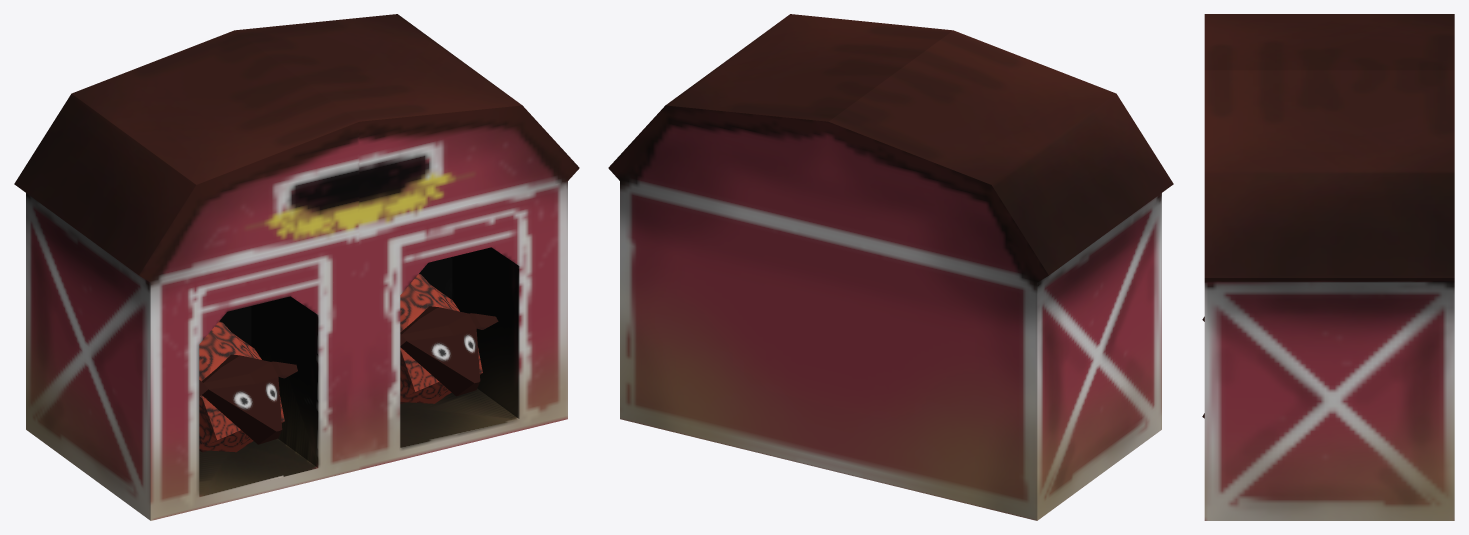
File: SArai_red_withsheeps.fbx
3 renders of one model, left to right at view 1: azimuth 30°, elevation 25°; view 2: azimuth 150°, elevation 25°; view 3: azimuth 270°, elevation 25°, orthographic.
Visible parts, largest first — view 1: Sarai, Sheep1, Sheep1.001; view 2: Sarai; view 3: Sarai.
Boxes of the visible parts, box(x1,y1,x2,y2) form: Sarai: box(14, 14, 579, 520); Sheep1: box(199, 321, 297, 452); Sheep1.001: box(400, 274, 498, 403); Sarai: box(608, 14, 1173, 520); Sarai: box(1204, 14, 1454, 520).
Bounding box in the file's own units: 408 × 308 × 202.
